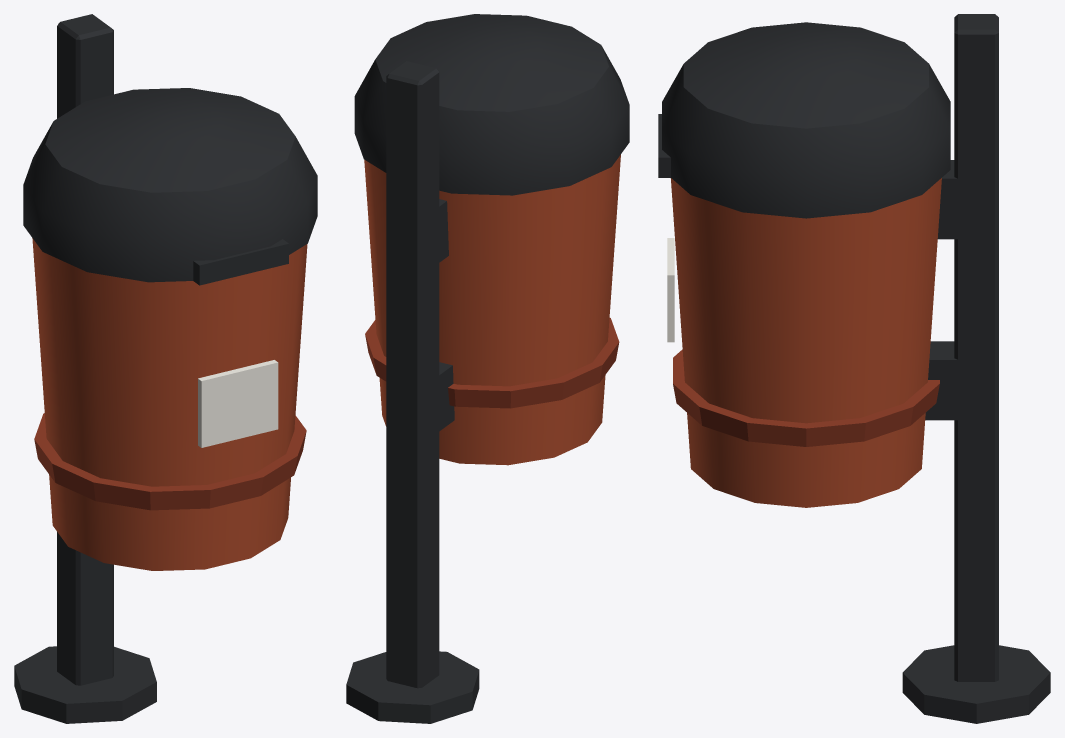
The model's file is lixeira.glb.
3 views of the same model, side by side, from view 1: azimuth 30°, elevation 25°; view 2: azimuth 150°, elevation 25°; view 3: azimuth 270°, elevation 25° (orthographic). The views are drawn at different scales.
Parts seen in each view (by area): view 1: lixeira; view 2: lixeira; view 3: lixeira.
Boxes of the visible parts, bbox=[...] form: lixeira: bbox=[14, 14, 317, 723]; lixeira: bbox=[346, 14, 629, 723]; lixeira: bbox=[658, 14, 1050, 723].
Size of the model in its own units: 0.4 by 1 by 0.53.
